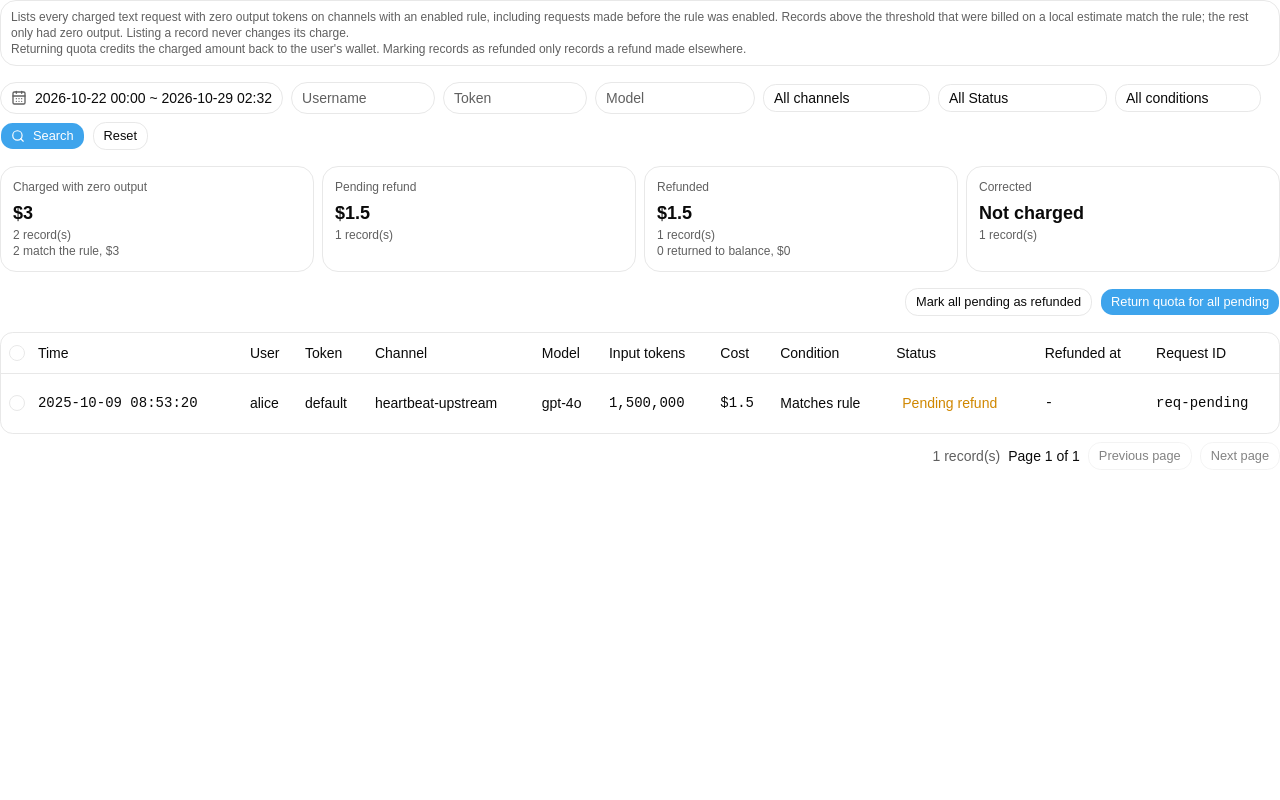
Test: billing correction records panel › returning quota for every pending record keeps the condition filter but not the status filter
Expected: the text "alice" is shown, top-left (250, 395), bottom-right (279, 411)
Select "Zero output only" in the dropdown named "Condition" at (1188, 98), box top-left (1115, 84), bottom-right (1261, 112)
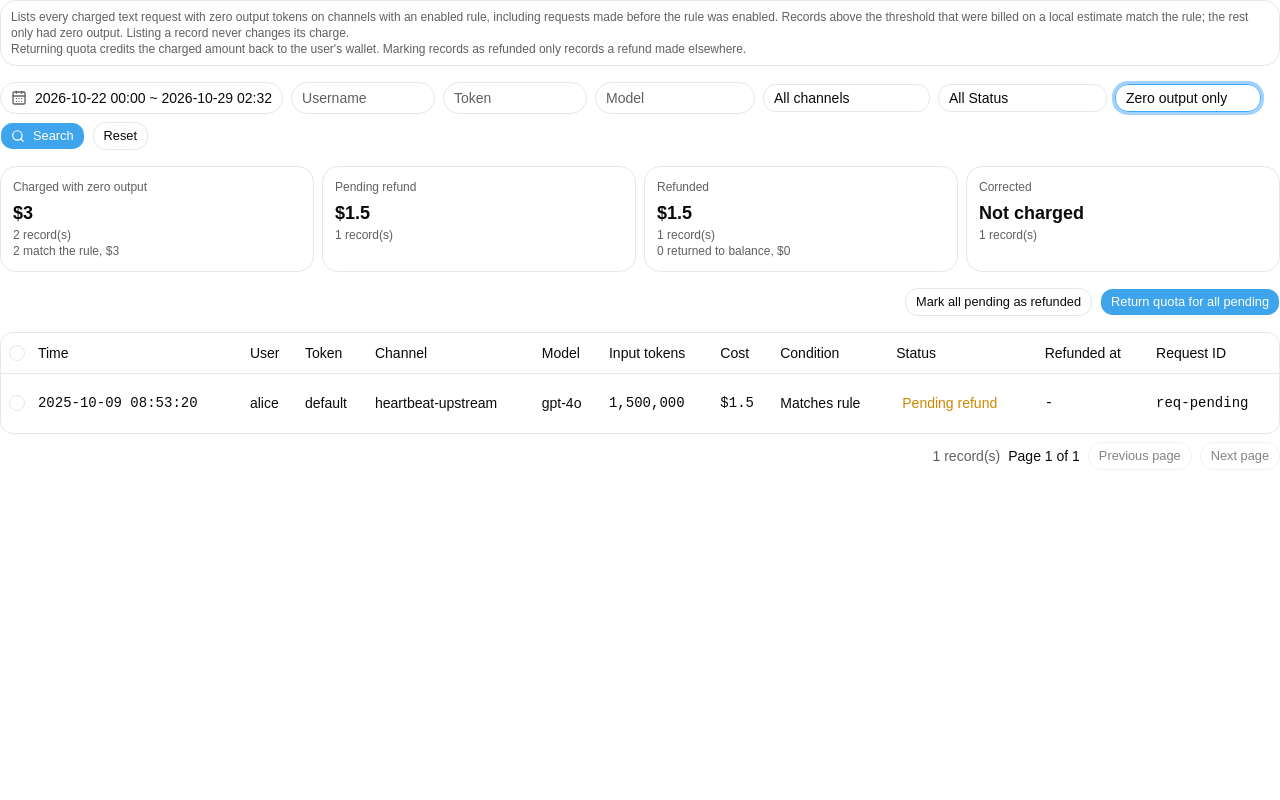
Select "Pending refund" in the dropdown named "Status" at (1022, 98), box top-left (938, 84), bottom-right (1107, 112)
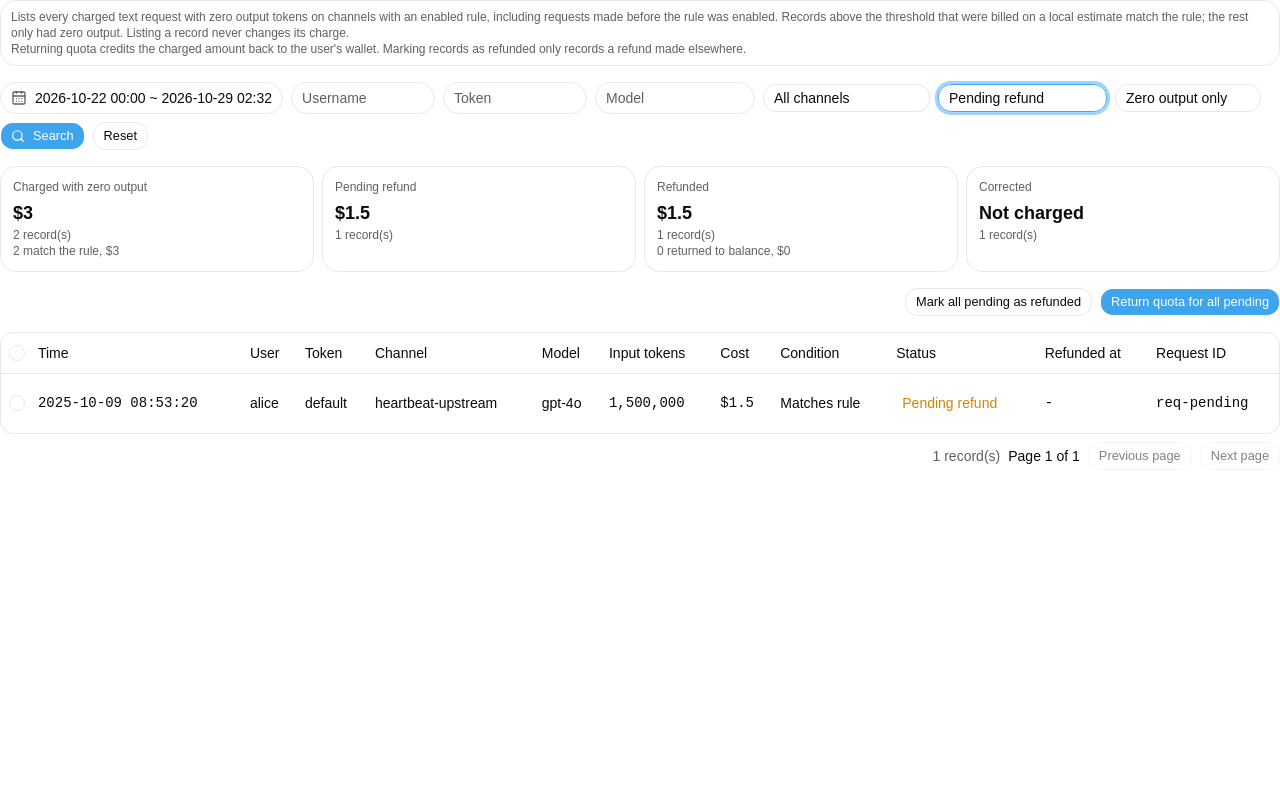
Click the button "Search" at (42, 136), box top-left (0, 122), bottom-right (84, 150)
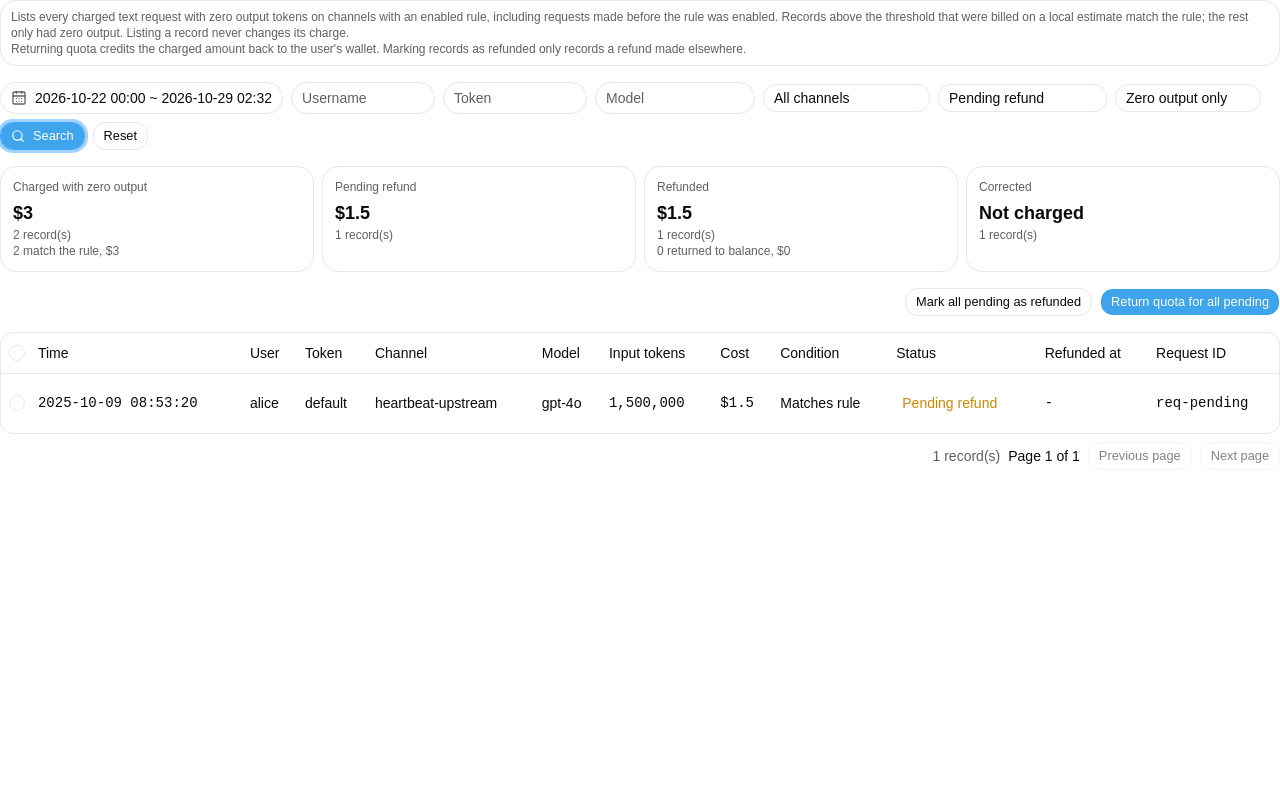
Click the button "Return quota for all pending" at (1190, 302), box top-left (1100, 288), bottom-right (1279, 316)
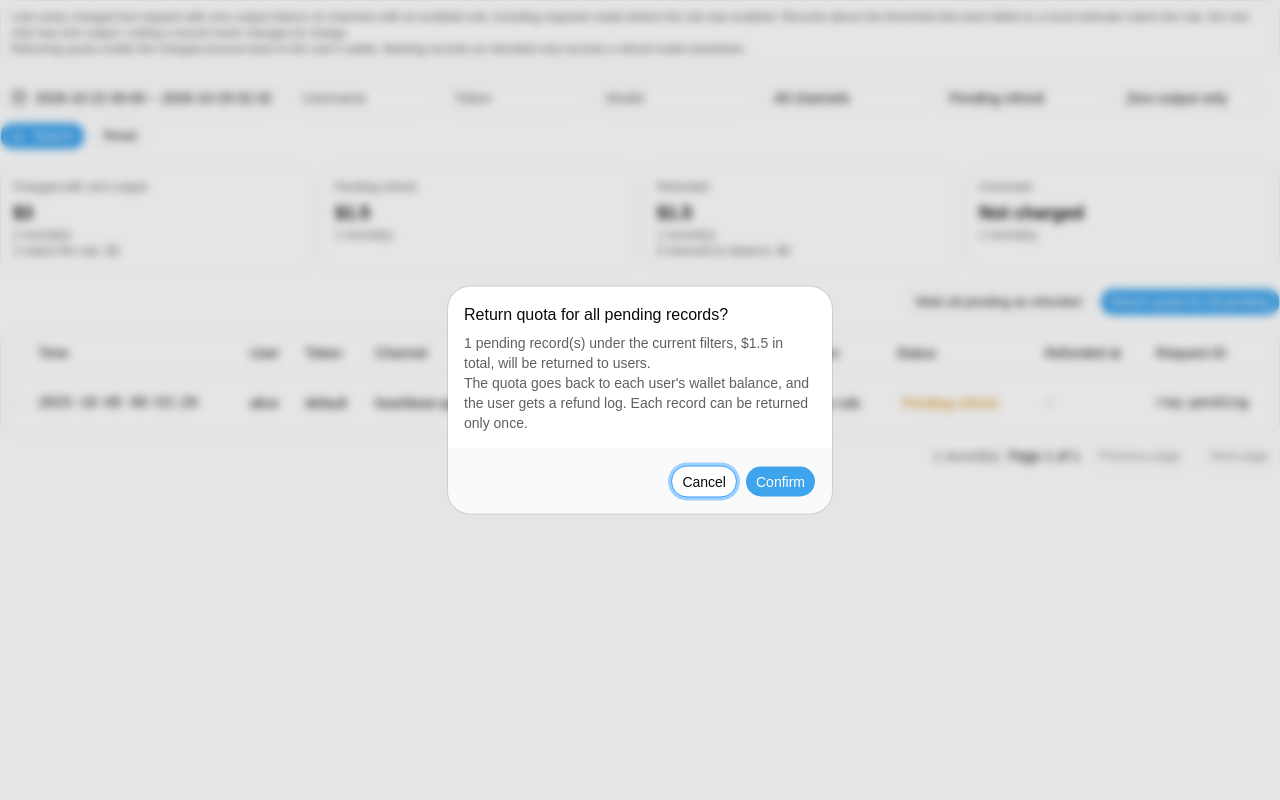
Click the button "Confirm" at (780, 482), box top-left (745, 466), bottom-right (816, 498)
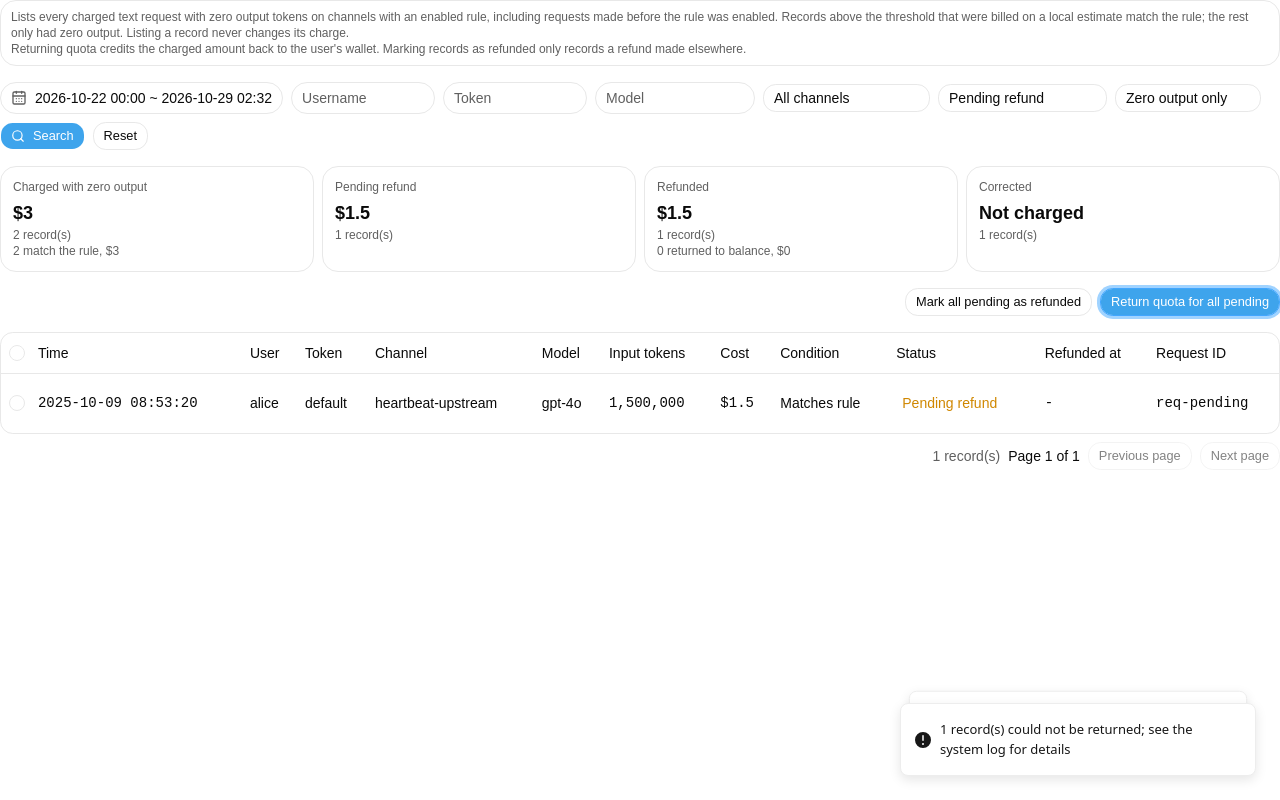
Expected: the text "1 record(s) could not be returned; see the system log for details" is shown, top-left (940, 720), bottom-right (1192, 758)
